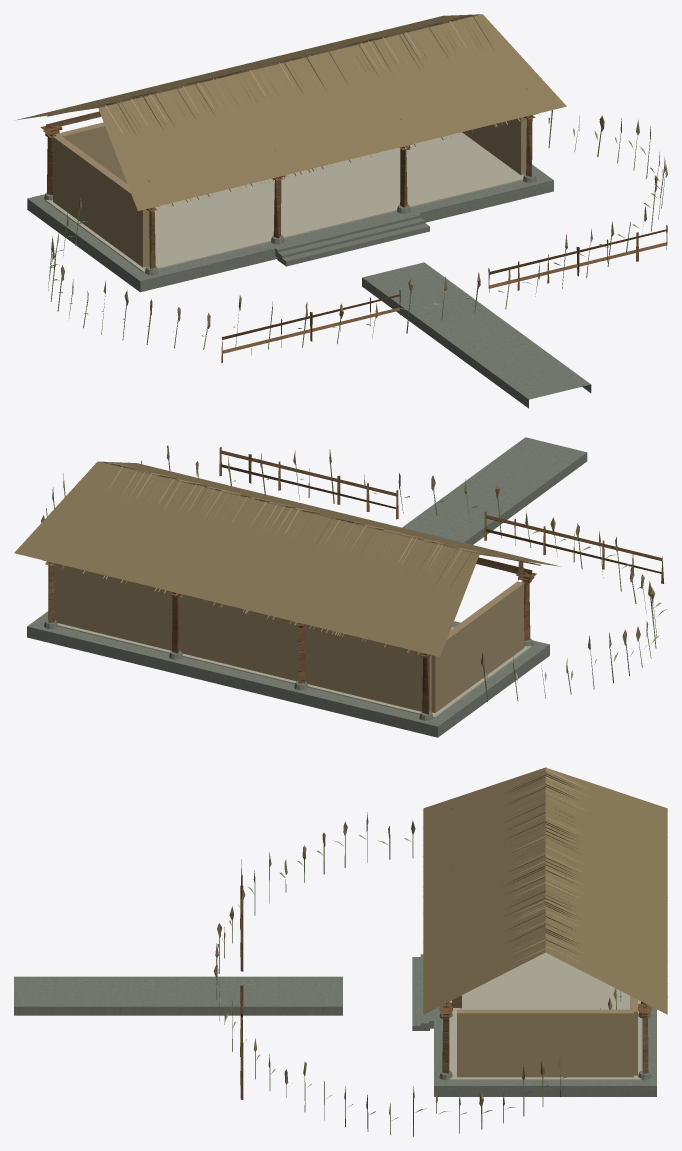
File: public_models_places-low_luxuean.glb
3 renders of one model, top to bottom at view 1: azimuth 30°, elevation 25°; view 2: azimuth 150°, elevation 25°; view 3: azimuth 270°, elevation 25°, orthographic.
Parts seen in each view (by area): view 1: luxuean_thatch, luxuean_stone, luxuean_paving, luxuean_clay, luxuean_wood, luxuean_bamboo; view 2: luxuean_thatch, luxuean_clay, luxuean_stone, luxuean_wood, luxuean_paving, luxuean_bamboo; view 3: luxuean_thatch, luxuean_stone, luxuean_clay, luxuean_paving, luxuean_wood, luxuean_bamboo.
Part boxes in pixels (<box>): luxuean_thatch: <box>17,14,667,328</box>; luxuean_stone: <box>27,164,591,408</box>; luxuean_paving: <box>46,132,523,272</box>; luxuean_clay: <box>46,15,540,267</box>; luxuean_wood: <box>40,88,667,363</box>; luxuean_bamboo: <box>48,110,665,349</box>; luxuean_thatch: <box>14,445,655,672</box>; luxuean_clay: <box>45,462,535,712</box>; luxuean_stone: <box>27,437,587,737</box>; luxuean_wood: <box>42,447,663,714</box>; luxuean_paving: <box>57,623,531,718</box>; luxuean_bamboo: <box>46,452,656,701</box>; luxuean_thatch: <box>213,767,667,1116</box>; luxuean_stone: <box>14,954,656,1096</box>; luxuean_clay: <box>457,767,667,1077</box>; luxuean_paving: <box>449,952,641,1080</box>; luxuean_wood: <box>240,808,651,1099</box>; luxuean_bamboo: <box>216,819,620,1136</box>.
Size of the model in its own units: 26.25 by 6.21 by 25.84.
Materials: 7 (2 with a texture image).
